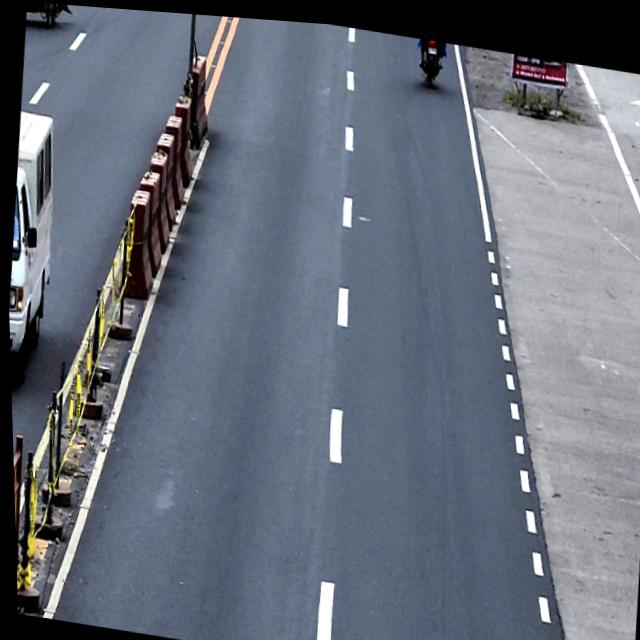Car: (2, 106, 65, 387)
License-Plate: (427, 39, 437, 48)
Motorcycle: (413, 32, 448, 83)
